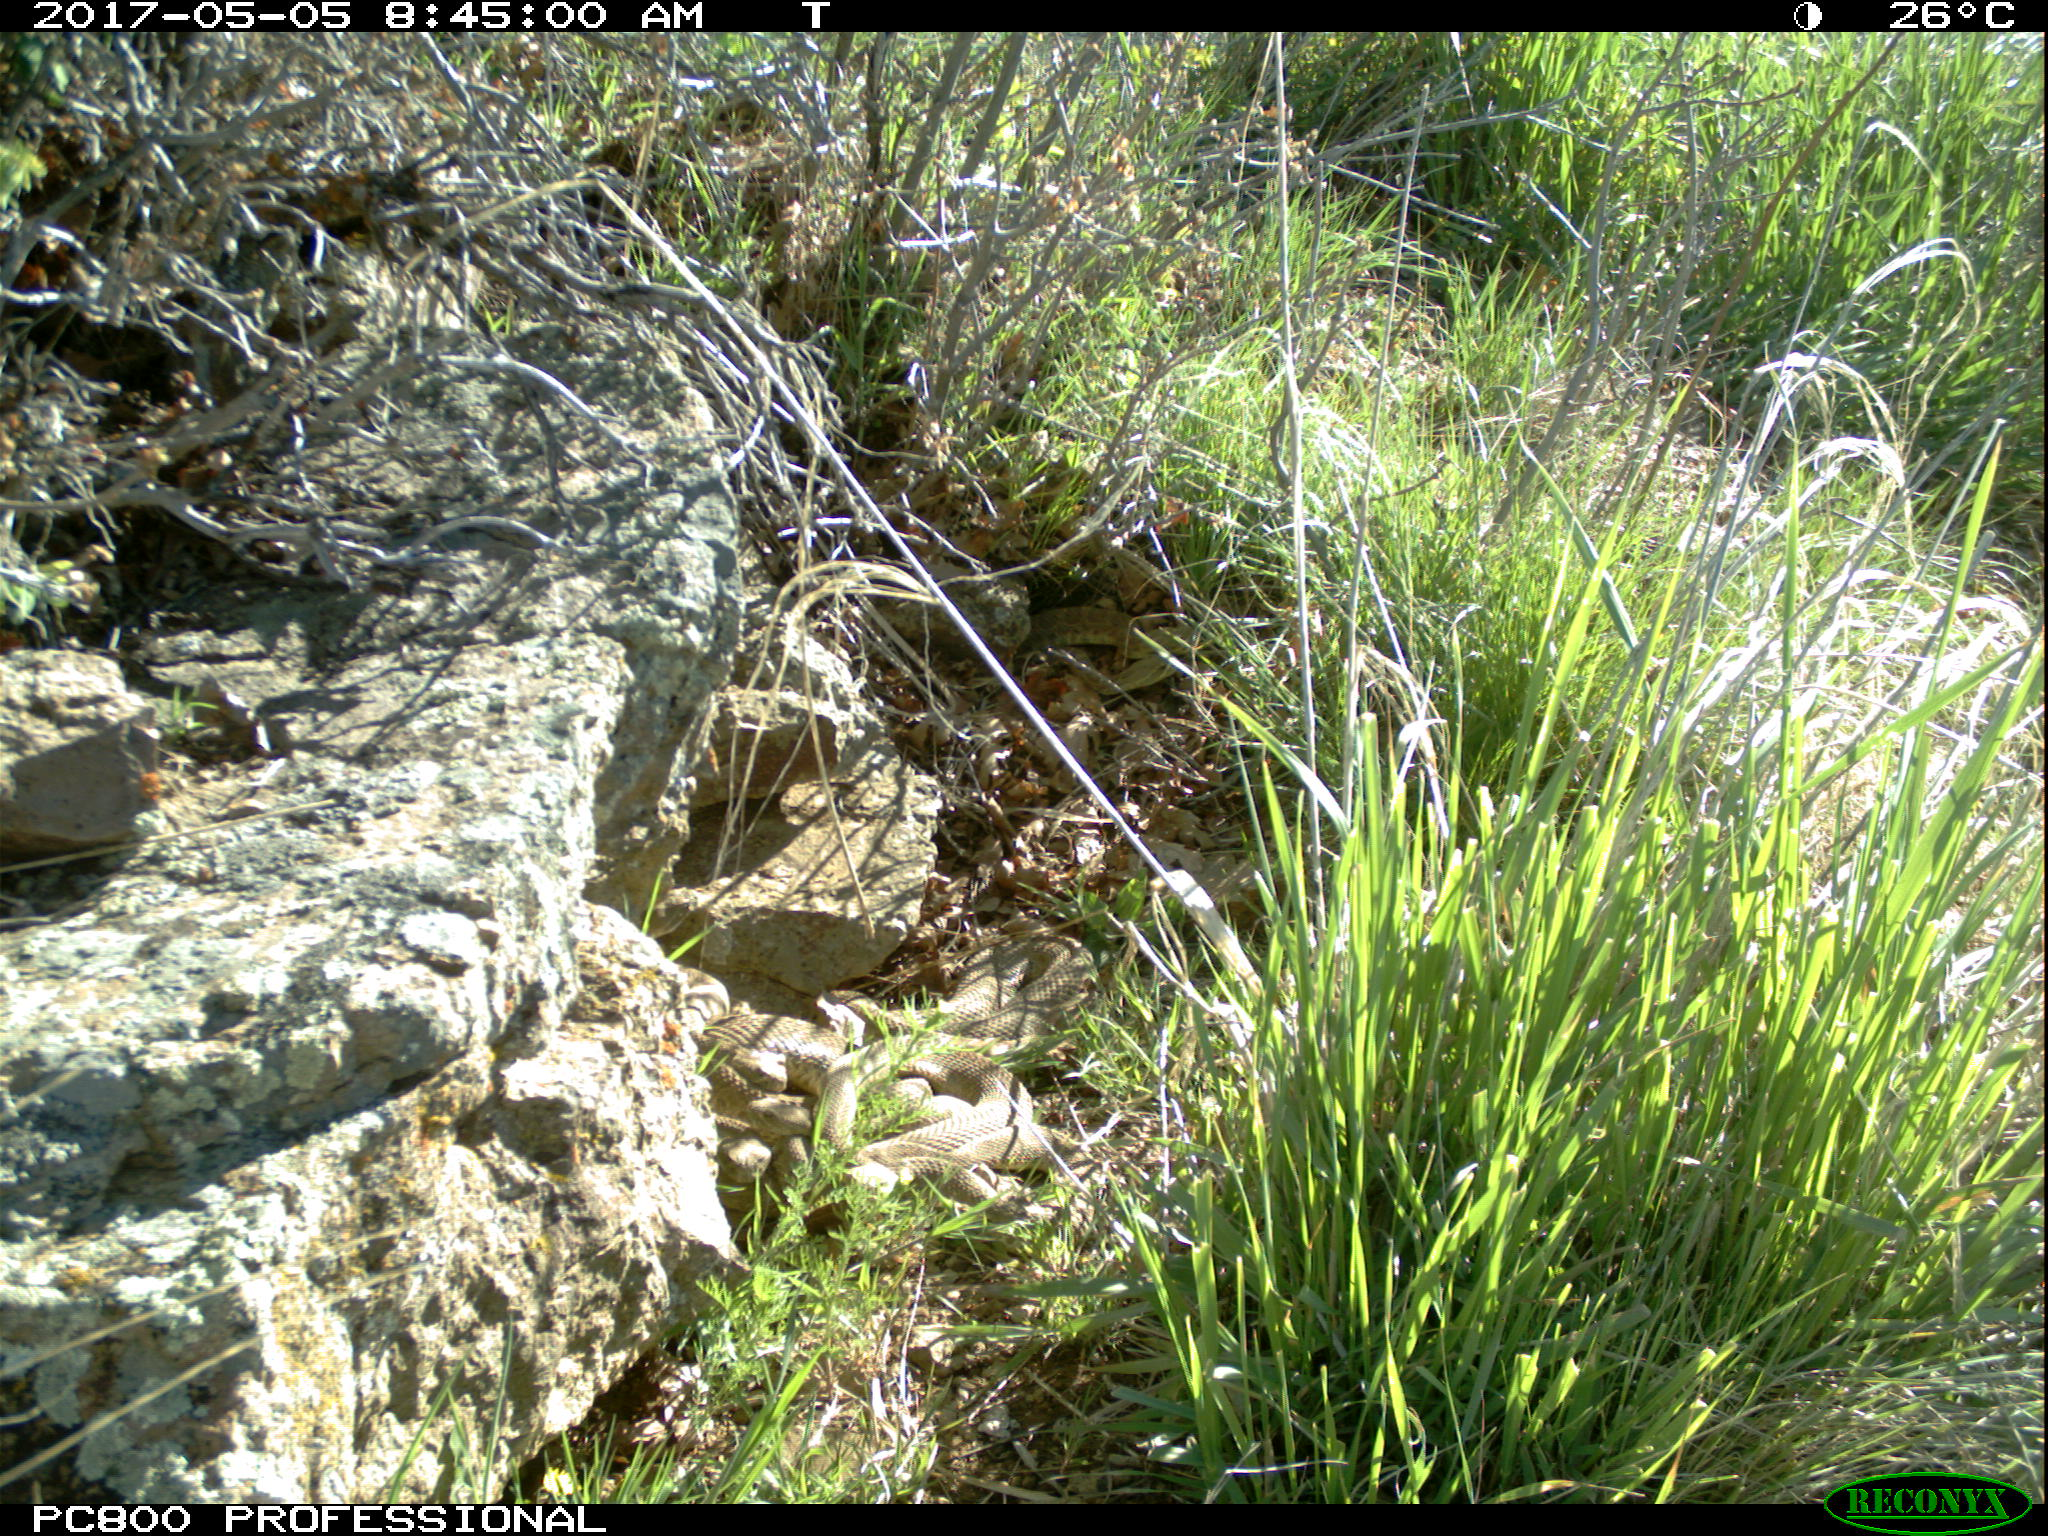snake: (692, 1012, 1072, 1204), (835, 931, 1114, 1052), (1003, 594, 1176, 687)
